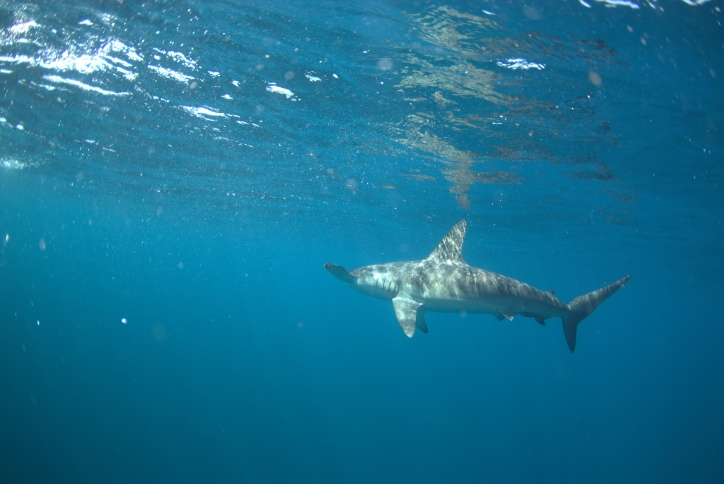Hammer: (304, 221, 638, 369)
